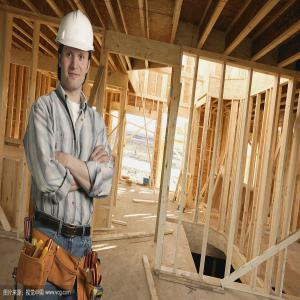white: (54, 10, 97, 93)
